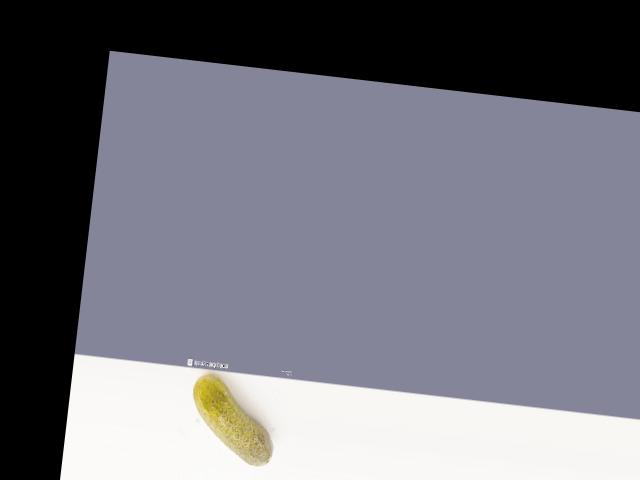cucumber: (185, 372, 281, 467)
